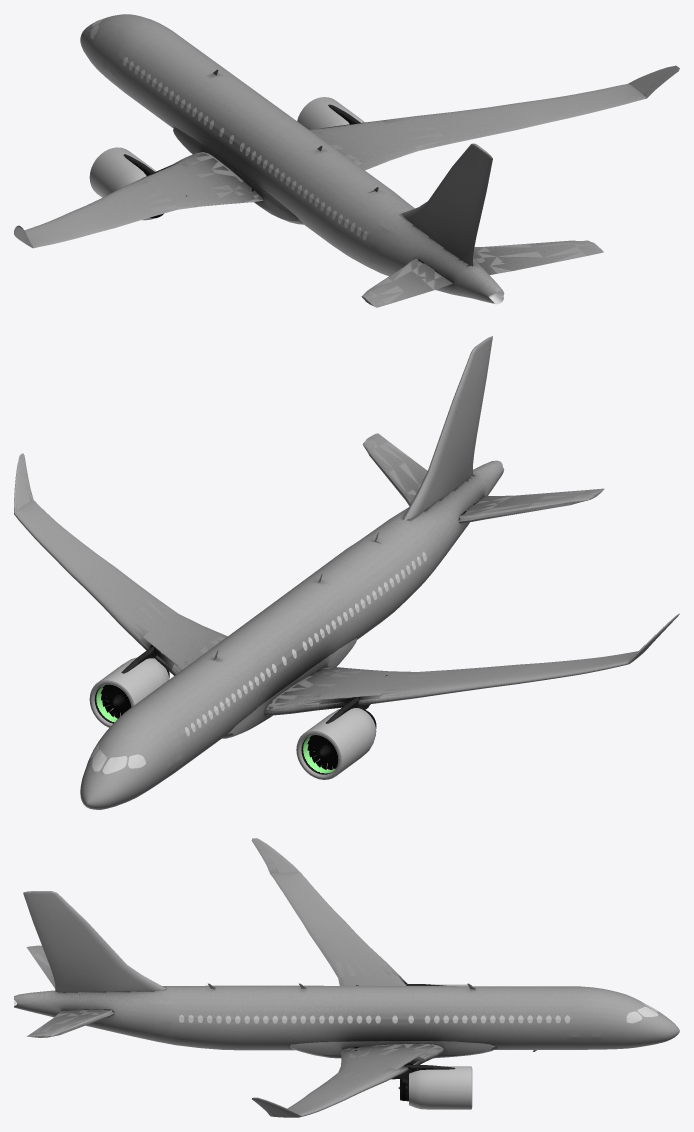
File: BCS3.glb
3 renders of one model, top to bottom at view 1: azimuth 30°, elevation 25°; view 2: azimuth 150°, elevation 25°; view 3: azimuth 270°, elevation 25°, orthographic. The views are drawn at different scales.
Visible parts, largest first — view 1: body, wings, vstab, hstab, nacelleL, body_002, wingfairing, nacelleR, doorRL, doorFL; view 2: body, wings, vstab, hstab, nacelleL, nacelleR, body_002, wingfairing, windows; view 3: body, wings, vstab, nacelleR, wingfairing, hstab, body_002, doorFR, doorRR.
Part boxes in pixels (x1,y1,x2,y2): body: (80,14,503,303); wings: (14,65,679,248); vstab: (403,143,492,266); hstab: (361,240,603,307); nacelleL: (89,147,156,220); body_002: (123,57,367,240); wingfairing: (173,127,303,224); nacelleR: (297,97,364,129); doorRL: (372,225,390,269); doorFL: (105,31,126,77); body: (80,460,504,809); wings: (14,453,679,715); vstab: (403,336,492,519); hstab: (362,433,604,523); nacelleL: (296,708,376,779); nacelleR: (89,657,169,727); body_002: (185,552,426,736); wingfairing: (222,638,357,738); windows: (90,744,145,774); body: (14,985,679,1050); wings: (251,838,444,1117); vstab: (23,891,166,992); nacelleR: (409,1066,472,1109); wingfairing: (289,1041,497,1058); hstab: (26,945,114,1037); body_002: (179,1015,570,1023); doorFR: (576,1003,593,1038); doorRR: (153,1004,169,1036).
Size of the model in its own units: 35.17 by 11.09 by 38.17.
6 materials, 3 textured.
